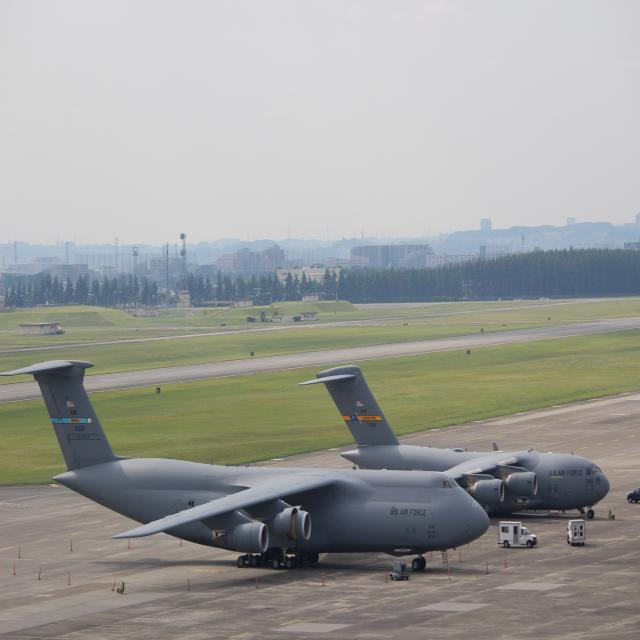MIL_Plane: (0, 359, 445, 571), (0, 363, 226, 519)
